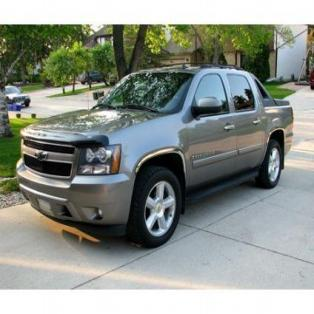Auto: (17, 66, 295, 250)
